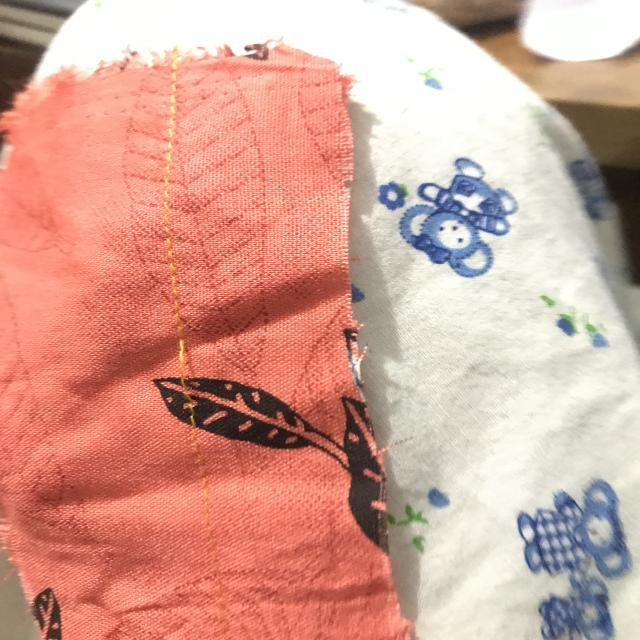skip: (150, 331, 206, 407)
